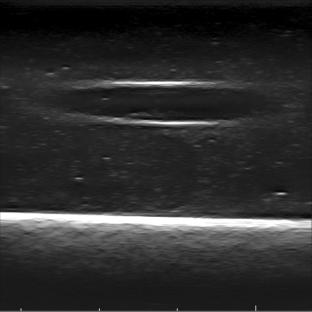vessel: (54, 79, 274, 126)
